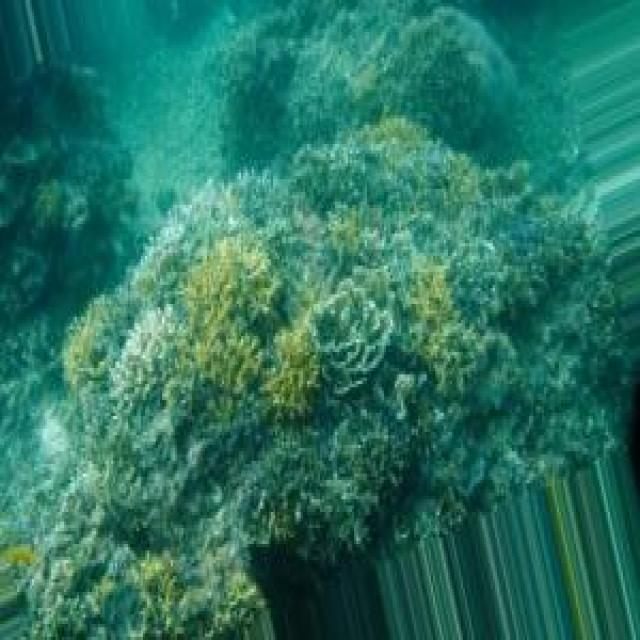healthy coral: (175, 236, 278, 397), (389, 234, 480, 397), (266, 317, 320, 419), (64, 296, 109, 397), (439, 146, 501, 217), (120, 550, 175, 608)
